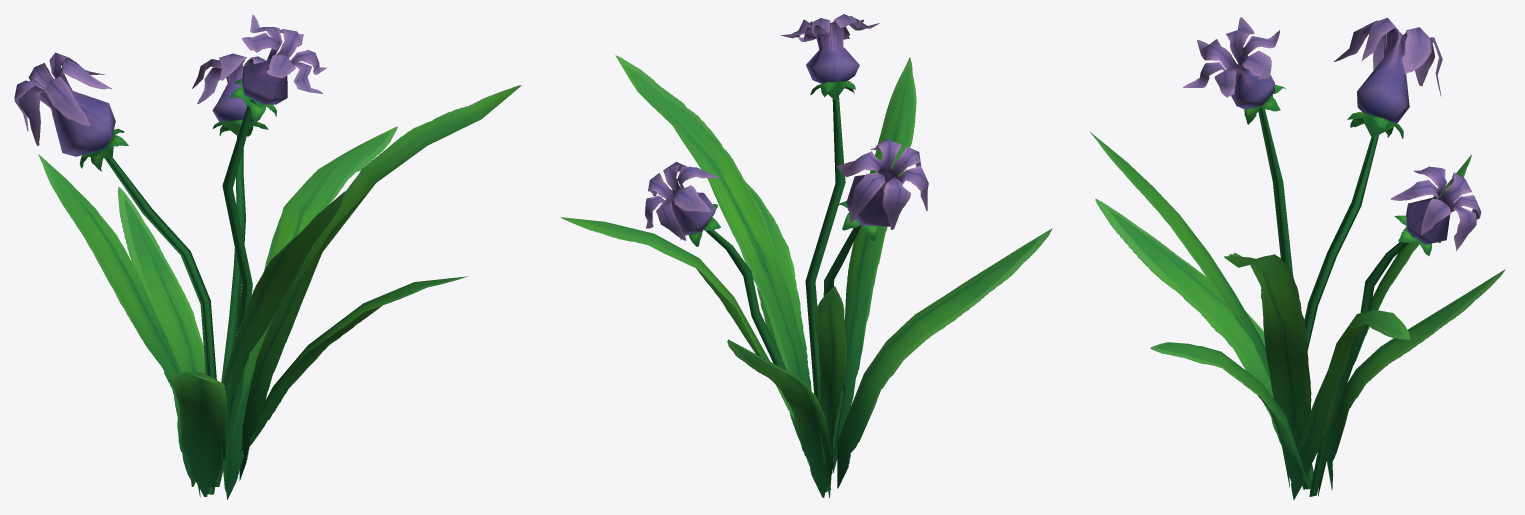
The model's file is MSH_FWOF_Flower_Large_B_01.fbx.
The picture shows the model from 3 angles, left to right: view 1: azimuth 30°, elevation 25°; view 2: azimuth 150°, elevation 25°; view 3: azimuth 270°, elevation 25°; orthographic projection. The views are drawn at different scales.
Parts seen in each view (by area): view 1: MSH_FWOF_Flower_Large_B_01; view 2: MSH_FWOF_Flower_Large_B_01; view 3: MSH_FWOF_Flower_Large_B_01.
Part boxes in pixels (box(x1,y1,x2,y2)): MSH_FWOF_Flower_Large_B_01: box(14, 15, 521, 499); MSH_FWOF_Flower_Large_B_01: box(560, 14, 1052, 498); MSH_FWOF_Flower_Large_B_01: box(1090, 17, 1505, 499).
Bounding box in the file's own units: 0.9749 × 1.09 × 0.8635.
